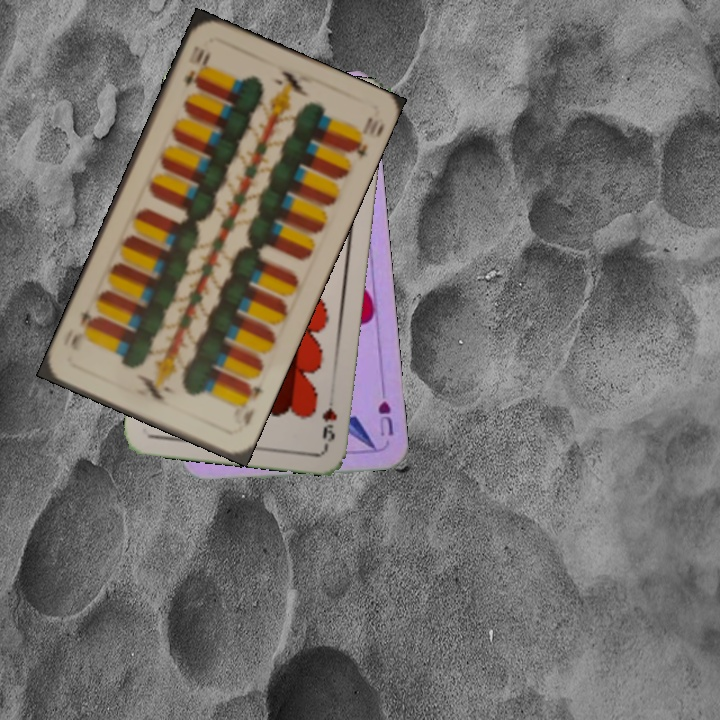E10: (180, 44, 213, 90), (238, 379, 266, 429)
H9: (318, 390, 340, 450)
HU: (374, 397, 396, 439)
